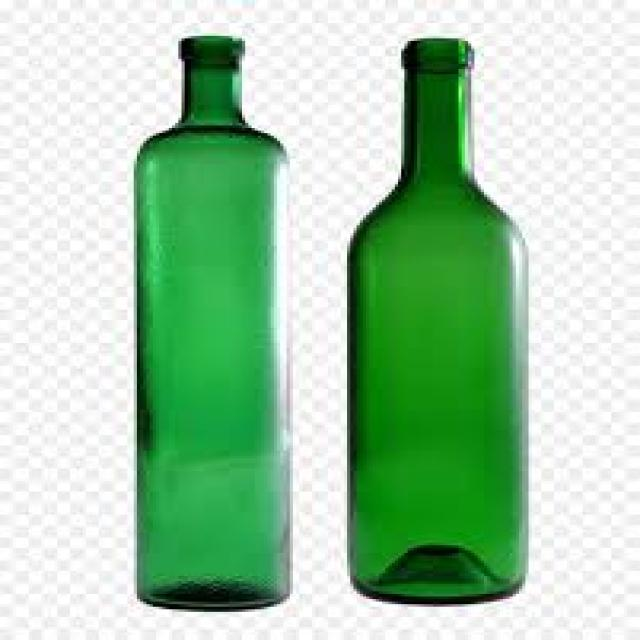glass: (344, 36, 525, 602), (134, 34, 290, 610)
